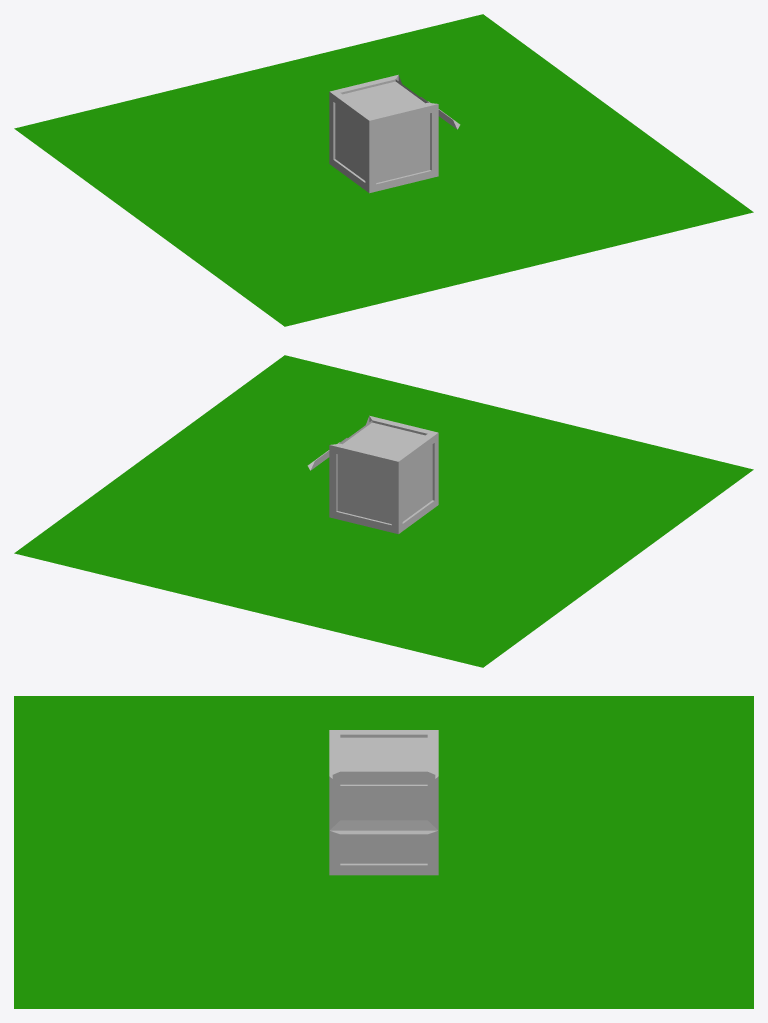
The model's file is caixa_000045.obj.
3 renders of one model, top to bottom at view 1: azimuth 30°, elevation 25°; view 2: azimuth 150°, elevation 25°; view 3: azimuth 270°, elevation 25°, orthographic. The views are drawn at different scales.
Visible parts, largest first — view 1: Plane, Cube_Cube.003; view 2: Plane, Cube_Cube.003; view 3: Plane, Cube_Cube.003, Cube.002_Cube.001, Cube.001_Cube.000.
Boxes of the visible parts, box(x1,y1,x2,y2) form: Plane: box(14, 14, 753, 326); Cube_Cube.003: box(329, 74, 438, 193); Plane: box(14, 355, 753, 667); Cube_Cube.003: box(329, 415, 438, 534); Plane: box(14, 696, 753, 1008); Cube_Cube.003: box(329, 730, 438, 875); Cube.002_Cube.001: box(340, 784, 427, 863); Cube.001_Cube.000: box(330, 820, 437, 834).
Size of the model in its own units: 13.55 by 2.01 by 13.55.
